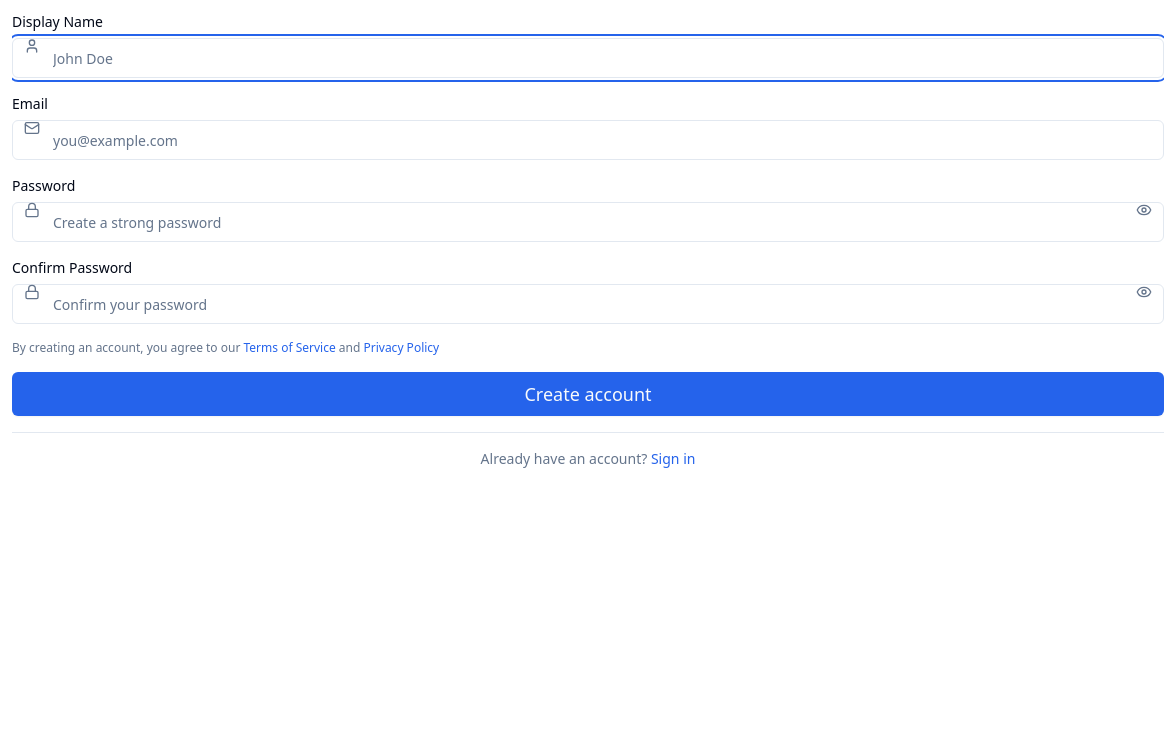
Scenario: RegisterForm › Form Validation › should clear display name error when user starts typing
// Submit to trigger validation
Click the button "Create account" at (588, 394), box [12,372,1164,416]
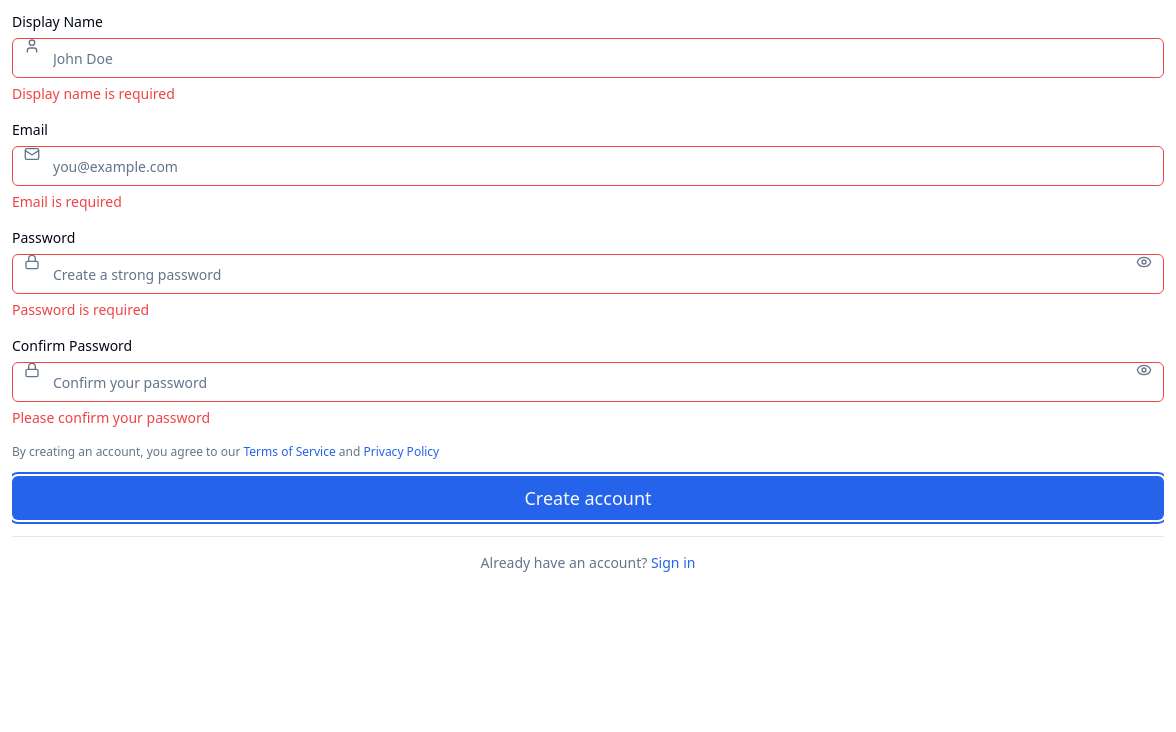
expect the text "Display name is required" is shown: met, box [12,84,175,103]
// Start typing
Type "J" into the field labelled "Display Name" at (588, 58), box [12,38,1164,78]
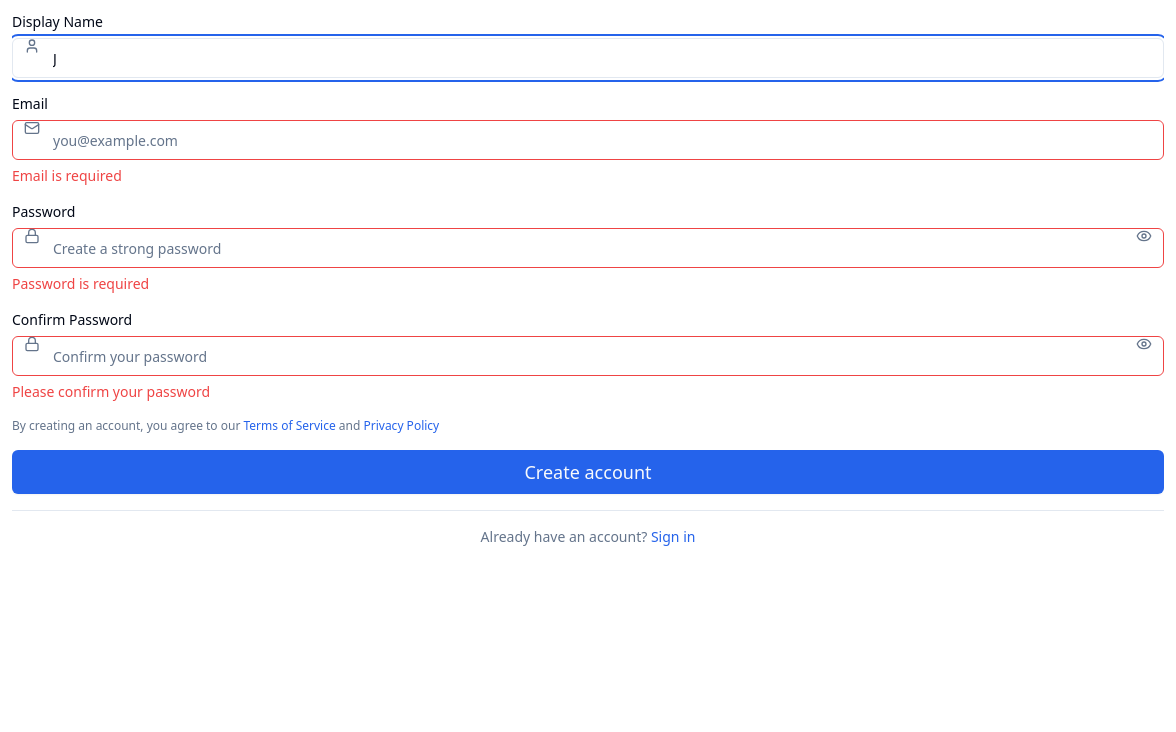
expect the text "Display name is required" is gone: met
